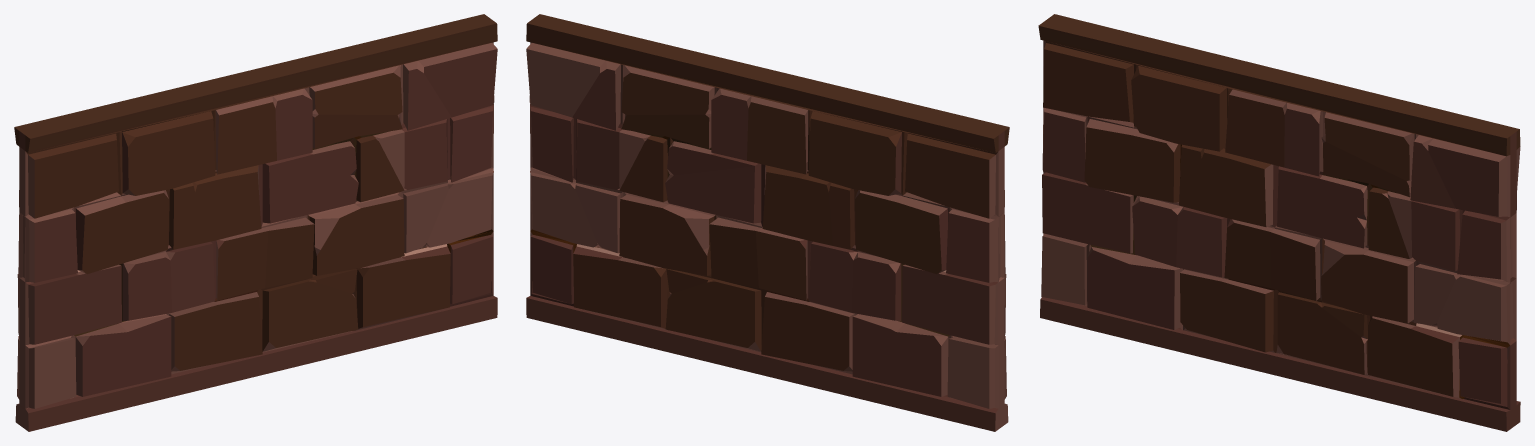
File: Bricks 10m.fbx
The picture shows the model from 3 angles, left to right: view 1: azimuth 30°, elevation 25°; view 2: azimuth 150°, elevation 25°; view 3: azimuth 330°, elevation 25°; orthographic projection.
Parts seen in each view (by area): view 1: Bricks 10m; view 2: Bricks 10m; view 3: Bricks 10m.
Part boxes in pixels (x1,y1,x2,y2): Bricks 10m: [14, 14, 497, 431]; Bricks 10m: [526, 14, 1009, 431]; Bricks 10m: [1038, 14, 1520, 431].
Size of the model in its own units: 1000 by 600 by 84.53.
